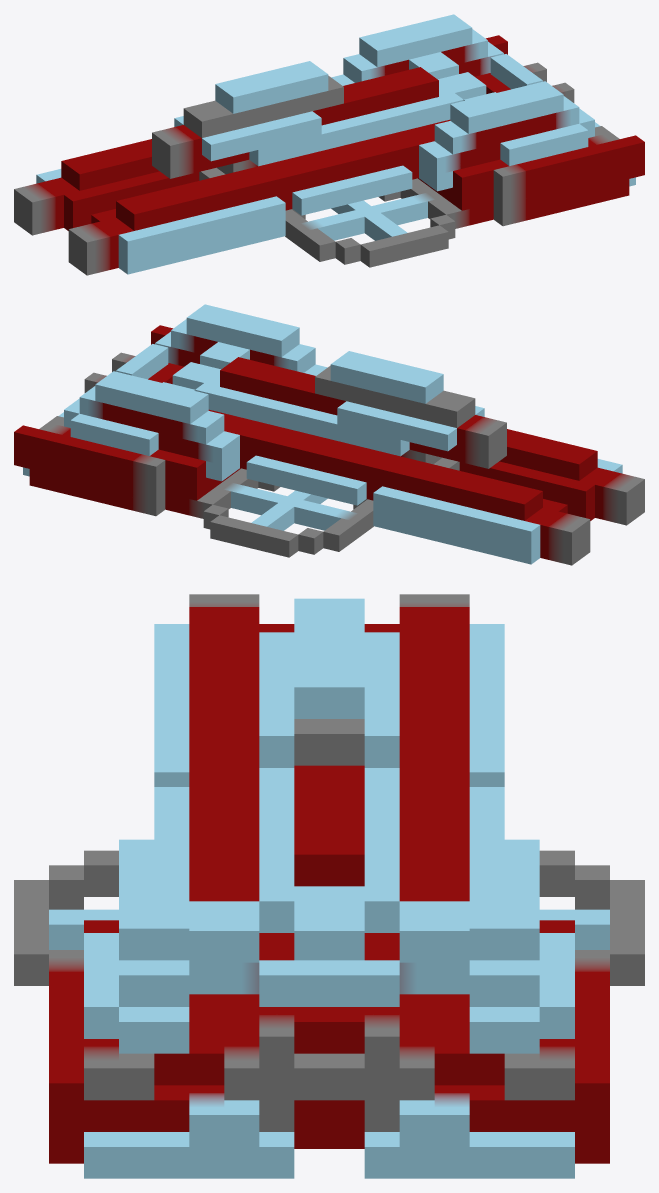
File: Player_15.fbx
3 renders of one model, top to bottom at view 1: azimuth 30°, elevation 25°; view 2: azimuth 150°, elevation 25°; view 3: azimuth 270°, elevation 25°, orthographic. The views are drawn at different scales.
Parts seen in each view (by area): view 1: Player_15; view 2: Player_15; view 3: Player_15.
Part boxes in pixels (left/top/right/bottom): Player_15: left=14, top=14, right=644, bottom=275; Player_15: left=14, top=304, right=644, bottom=565; Player_15: left=14, top=594, right=644, bottom=1178.
Size of the model in its own units: 33 by 8 by 18.
Materials: 1 (1 with a texture image).
